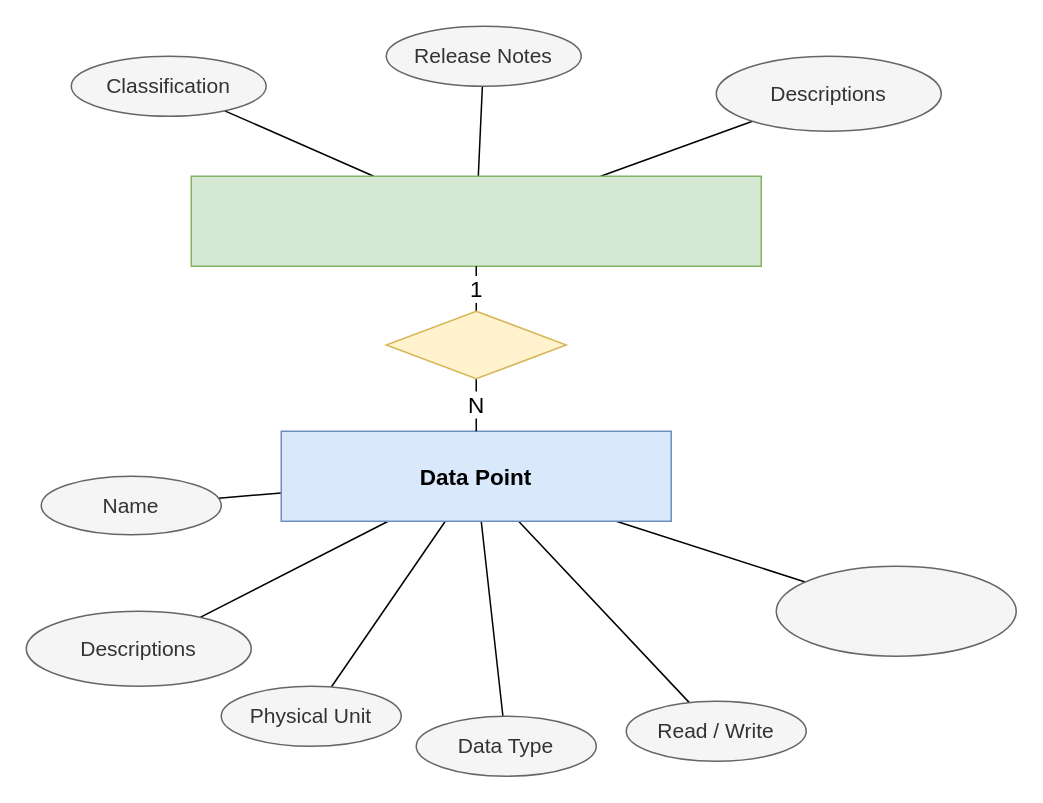
Image size: 1043x803. Some labels were removed from this diagram. The box of each missing label's shape, as (x1, y1, x2, y2) in pixels:
contains: (385, 310, 566, 379)
Functional Profile: (190, 175, 761, 266)
Mandatory / Recommended / Optional: (775, 565, 1016, 656)
